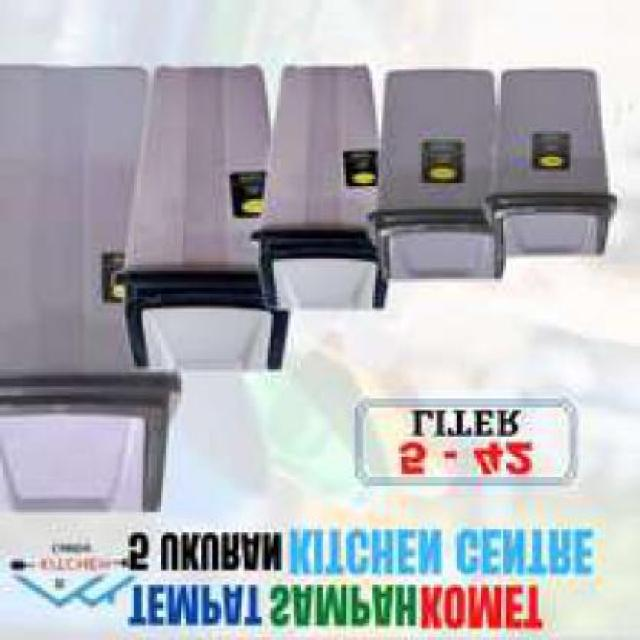garbage container: (3, 62, 182, 519), (119, 62, 298, 375), (251, 50, 385, 318), (383, 65, 508, 293), (490, 62, 627, 267)
